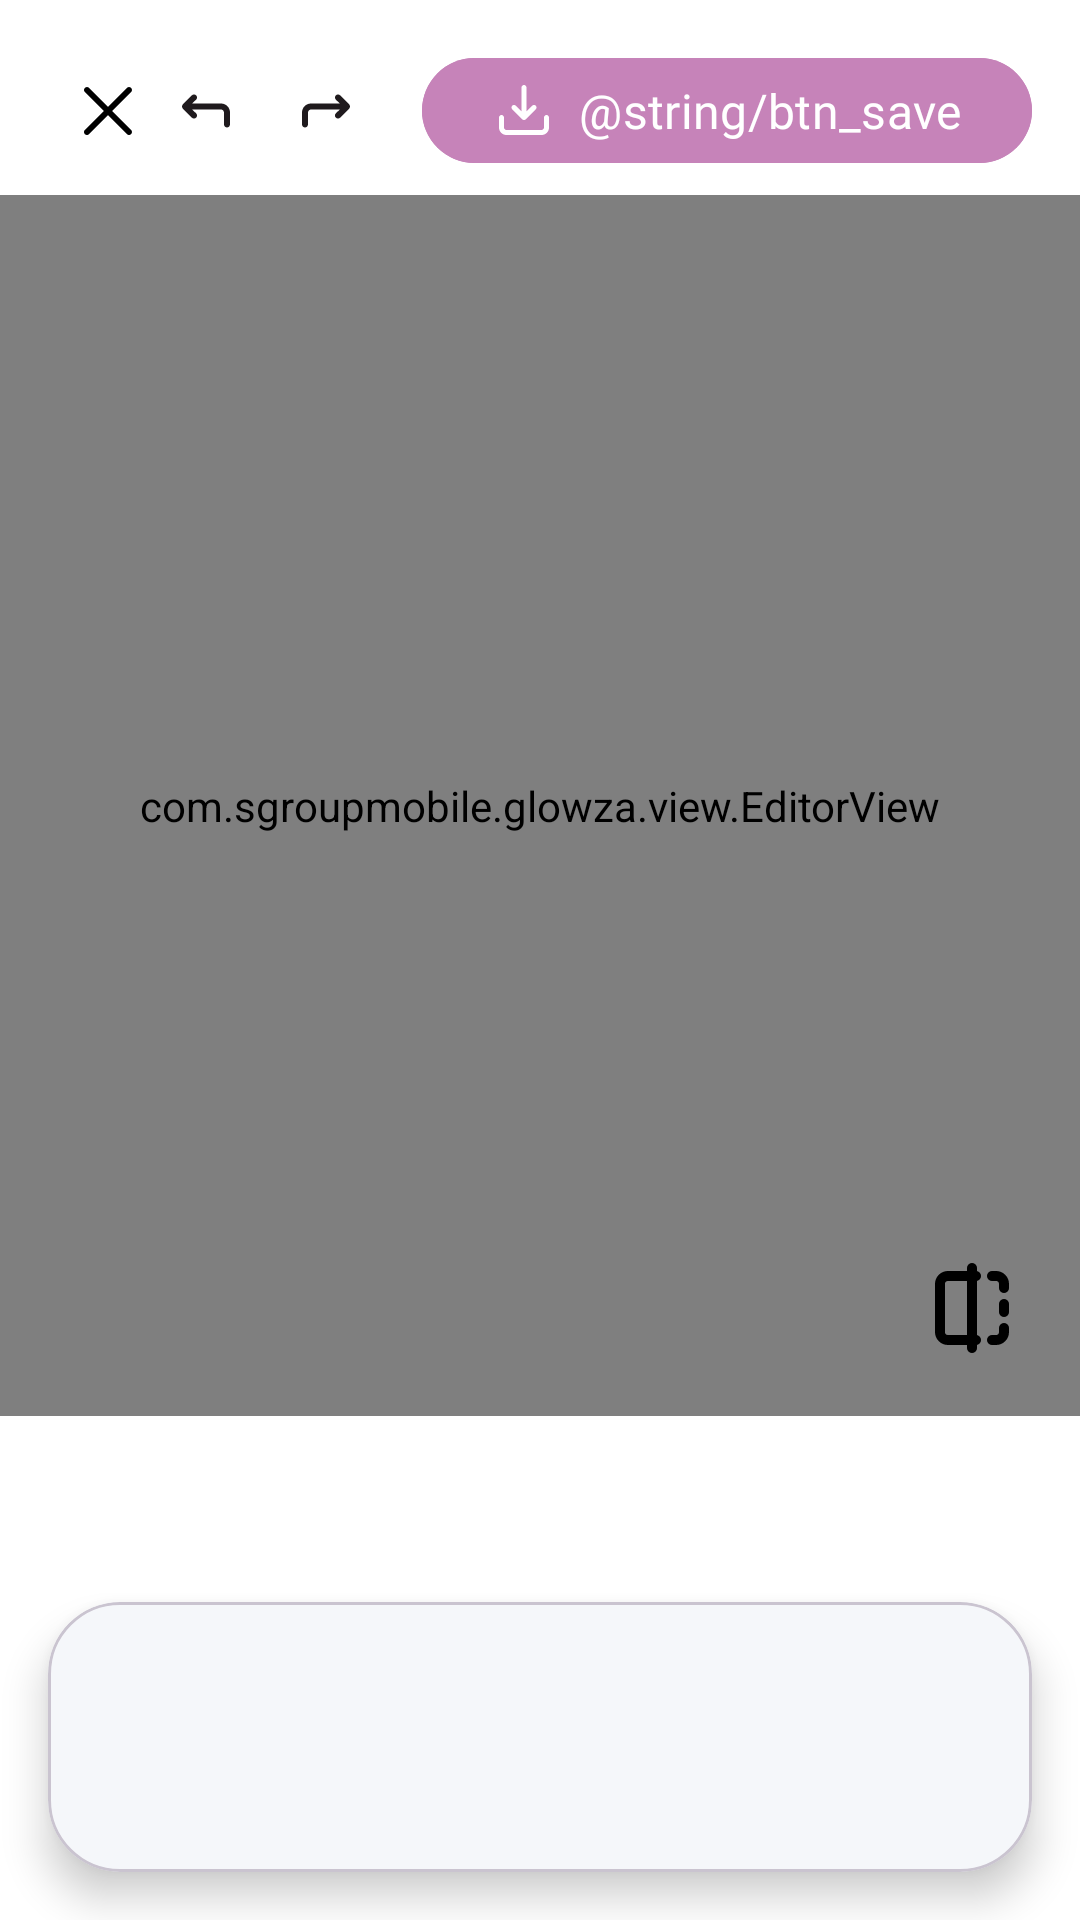

Locate icon controls on the screen. Image size 1080 × 1920, boxes as Rect(x1, y1, x2, y2).
compare: Rect(935, 1263, 1009, 1353)
exit: Rect(84, 87, 132, 135)
redo: Rect(302, 94, 350, 128)
undo: Rect(182, 94, 230, 128)
